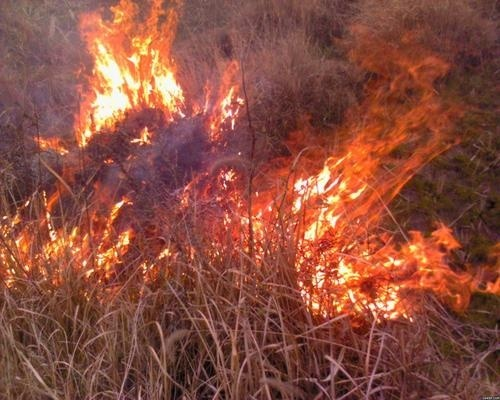fire: (73, 0, 187, 147), (1, 191, 139, 293), (196, 60, 245, 140), (34, 131, 70, 155)
